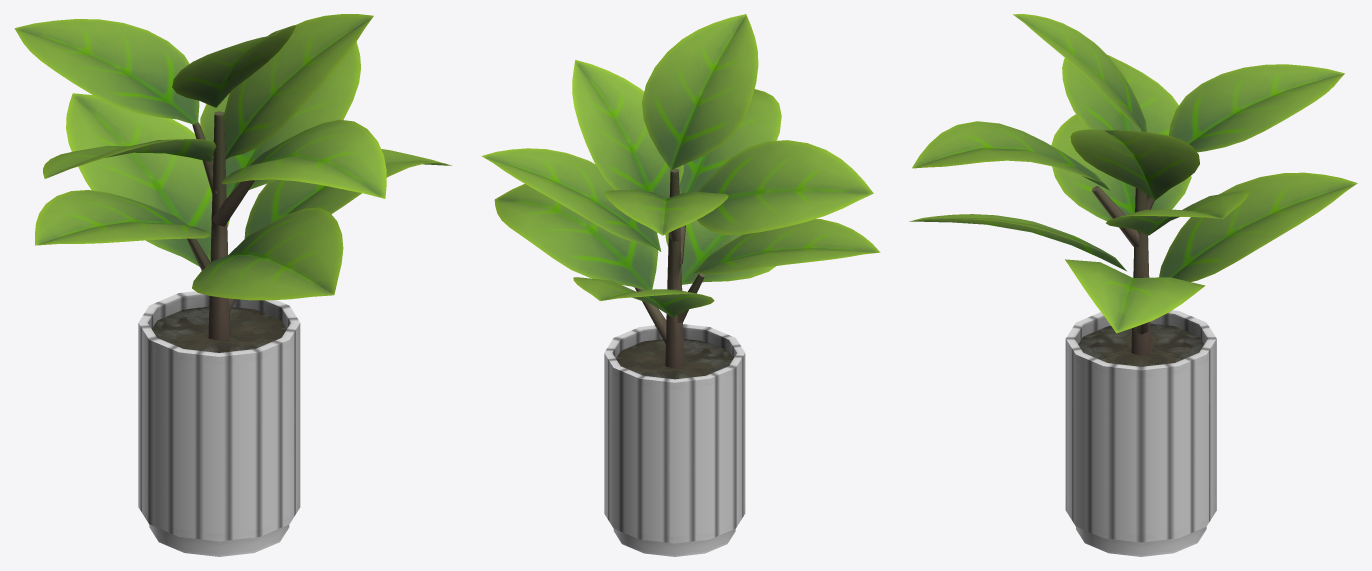
Rendered from Pfb_Flowerpot.fbx.
3 renders of one model, left to right at view 1: azimuth 30°, elevation 25°; view 2: azimuth 150°, elevation 25°; view 3: azimuth 270°, elevation 25°, orthographic. The views are drawn at different scales.
Parts seen in each view (by area): view 1: MAT_Flowerpot; view 2: MAT_Flowerpot; view 3: MAT_Flowerpot.
Part boxes in pixels (x1=…): MAT_Flowerpot: x1=14, y1=14, x2=451, y2=556; MAT_Flowerpot: x1=481, y1=14, x2=880, y2=556; MAT_Flowerpot: x1=909, y1=14, x2=1357, y2=556.
Bounding box in the file's own units: 1.36 × 1.64 × 1.31.
Materials: 1 (1 with a texture image).
